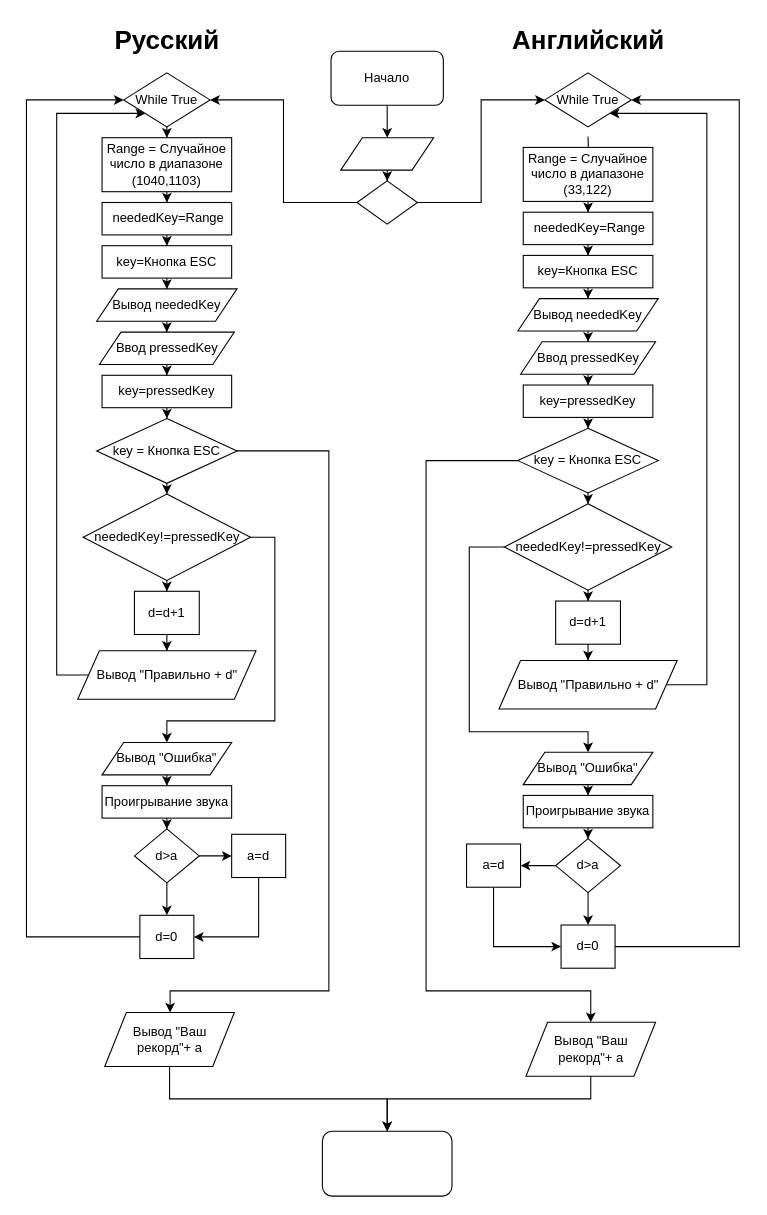
Image size: 767x1215. Some labels were removed from this diagram. The centre of each missing label's shape, as x and y in pixels:
"x=0" belongs at point (386, 202).
"Ввод х" belongs at point (387, 153).
"Конец" belongs at point (386, 1163).
